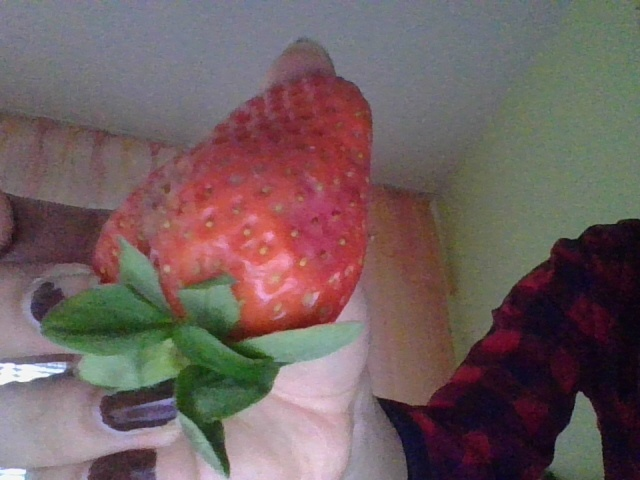ripe: (71, 73, 379, 376)
